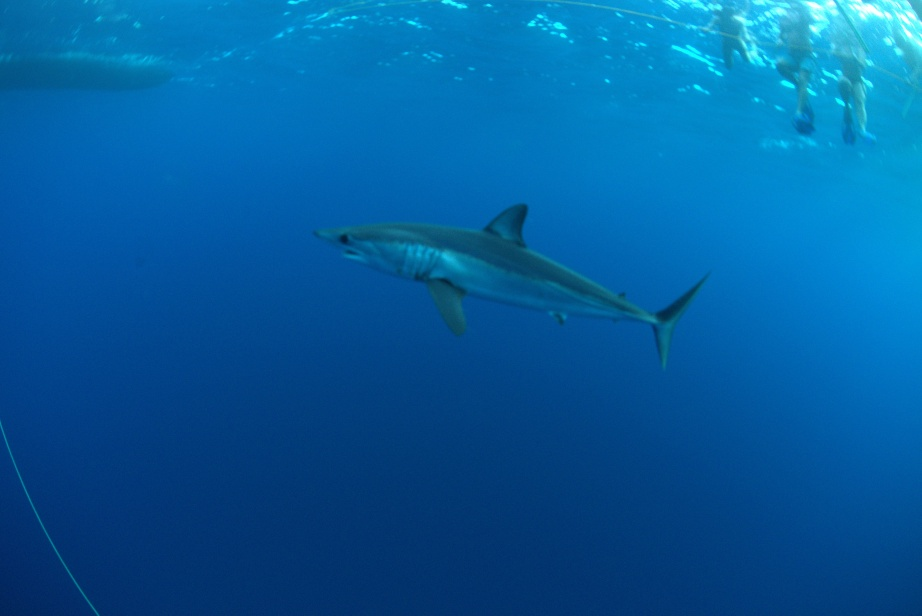Mako: (294, 199, 729, 382)
